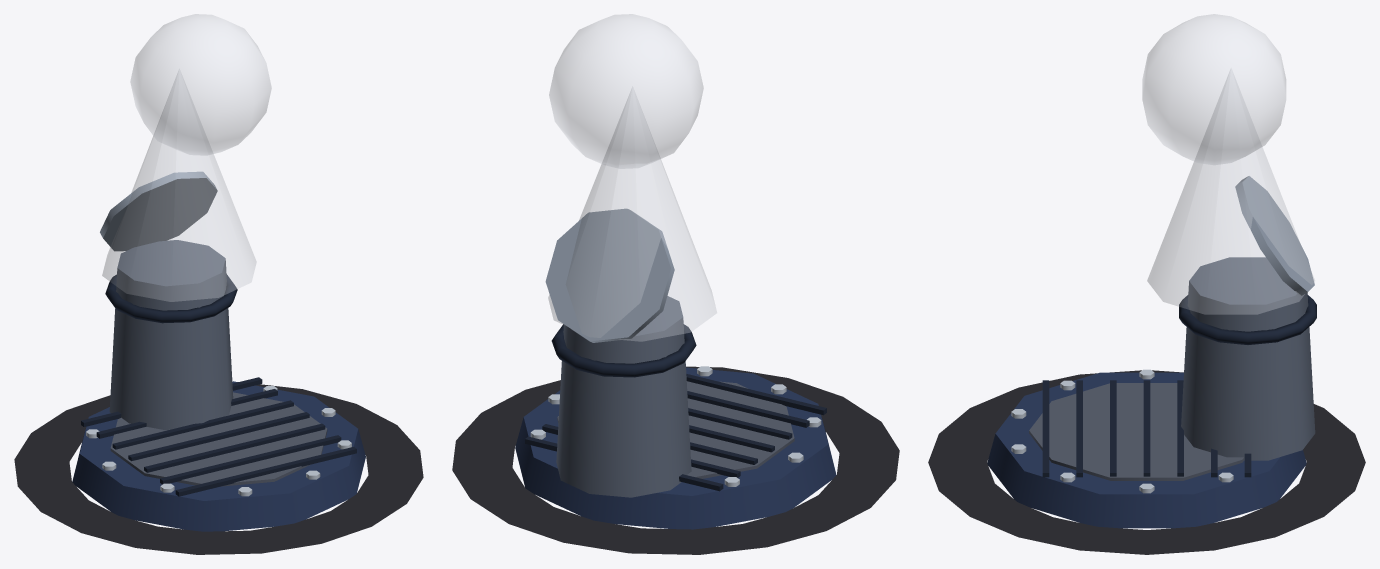
Rendered from foundry_dress_steamvent.glb.
3 renders of one model, left to right at view 1: azimuth 30°, elevation 25°; view 2: azimuth 150°, elevation 25°; view 3: azimuth 270°, elevation 25°, orthographic. The views are drawn at different scales.
Parts seen in each view (by area): view 1: vent_scorch, vent_plume, vent_stack, vent_collar, vent_plume_b, vent_grate, vent_lid_plate, vent_stack_band, vent_grate_bar6, vent_grate_bar5, vent_grate_bar3, vent_grate_bar4 (+4 smaller); view 2: vent_scorch, vent_plume, vent_stack, vent_plume_b, vent_collar, vent_lid_plate, vent_grate, vent_stack_band, vent_grate_bar6, vent_grate_bar5, vent_collar_bolts, vent_grate_bar4 (+2 smaller); view 3: vent_stack, vent_plume, vent_scorch, vent_collar, vent_plume_b, vent_grate, vent_lid_plate, vent_stack_band, vent_collar_bolts, vent_grate_bar6, vent_grate_bar3, vent_grate_bar5 (+2 smaller).
Part boxes in pixels (x1,y1,x2,y2): vent_scorch: (14,382,423,554); vent_plume: (102,69,256,301); vent_stack: (109,240,233,429); vent_collar: (72,381,365,531); vent_plume_b: (130,14,271,155); vent_grate: (110,392,327,486); vent_lid_plate: (100,171,217,251); vent_stack_band: (105,274,237,323); vent_grate_bar6: (175,446,356,496); vent_grate_bar5: (160,435,341,484); vent_grate_bar3: (128,412,309,461); vent_grate_bar4: (144,423,325,472); vent_scorch: (452,366,899,554); vent_plume: (548,87,716,341); vent_stack: (556,296,691,497); vent_plume_b: (549,14,703,168); vent_collar: (515,367,836,529); vent_lid_plate: (545,208,674,342); vent_grate: (557,381,794,478); vent_stack_band: (551,324,696,377); vent_grate_bar6: (686,374,826,415); vent_grate_bar5: (687,391,809,427); vent_collar_bolts: (530,366,821,486); vent_grate_bar4: (688,408,792,439); vent_stack: (1181,257,1315,460); vent_plume: (1147,68,1314,314); vent_scorch: (928,370,1365,554); vent_collar: (987,372,1306,528); vent_plume_b: (1142,14,1285,164); vent_grate: (1029,383,1243,480); vent_lid_plate: (1235,176,1314,295); vent_stack_band: (1179,295,1316,344); vent_collar_bolts: (1011,369,1233,493); vent_grate_bar6: (1042,380,1049,477); vent_grate_bar3: (1143,380,1150,476); vent_grate_bar5: (1076,380,1082,477).
Size of the model in its own units: 2.6 by 2.95 by 2.6.
